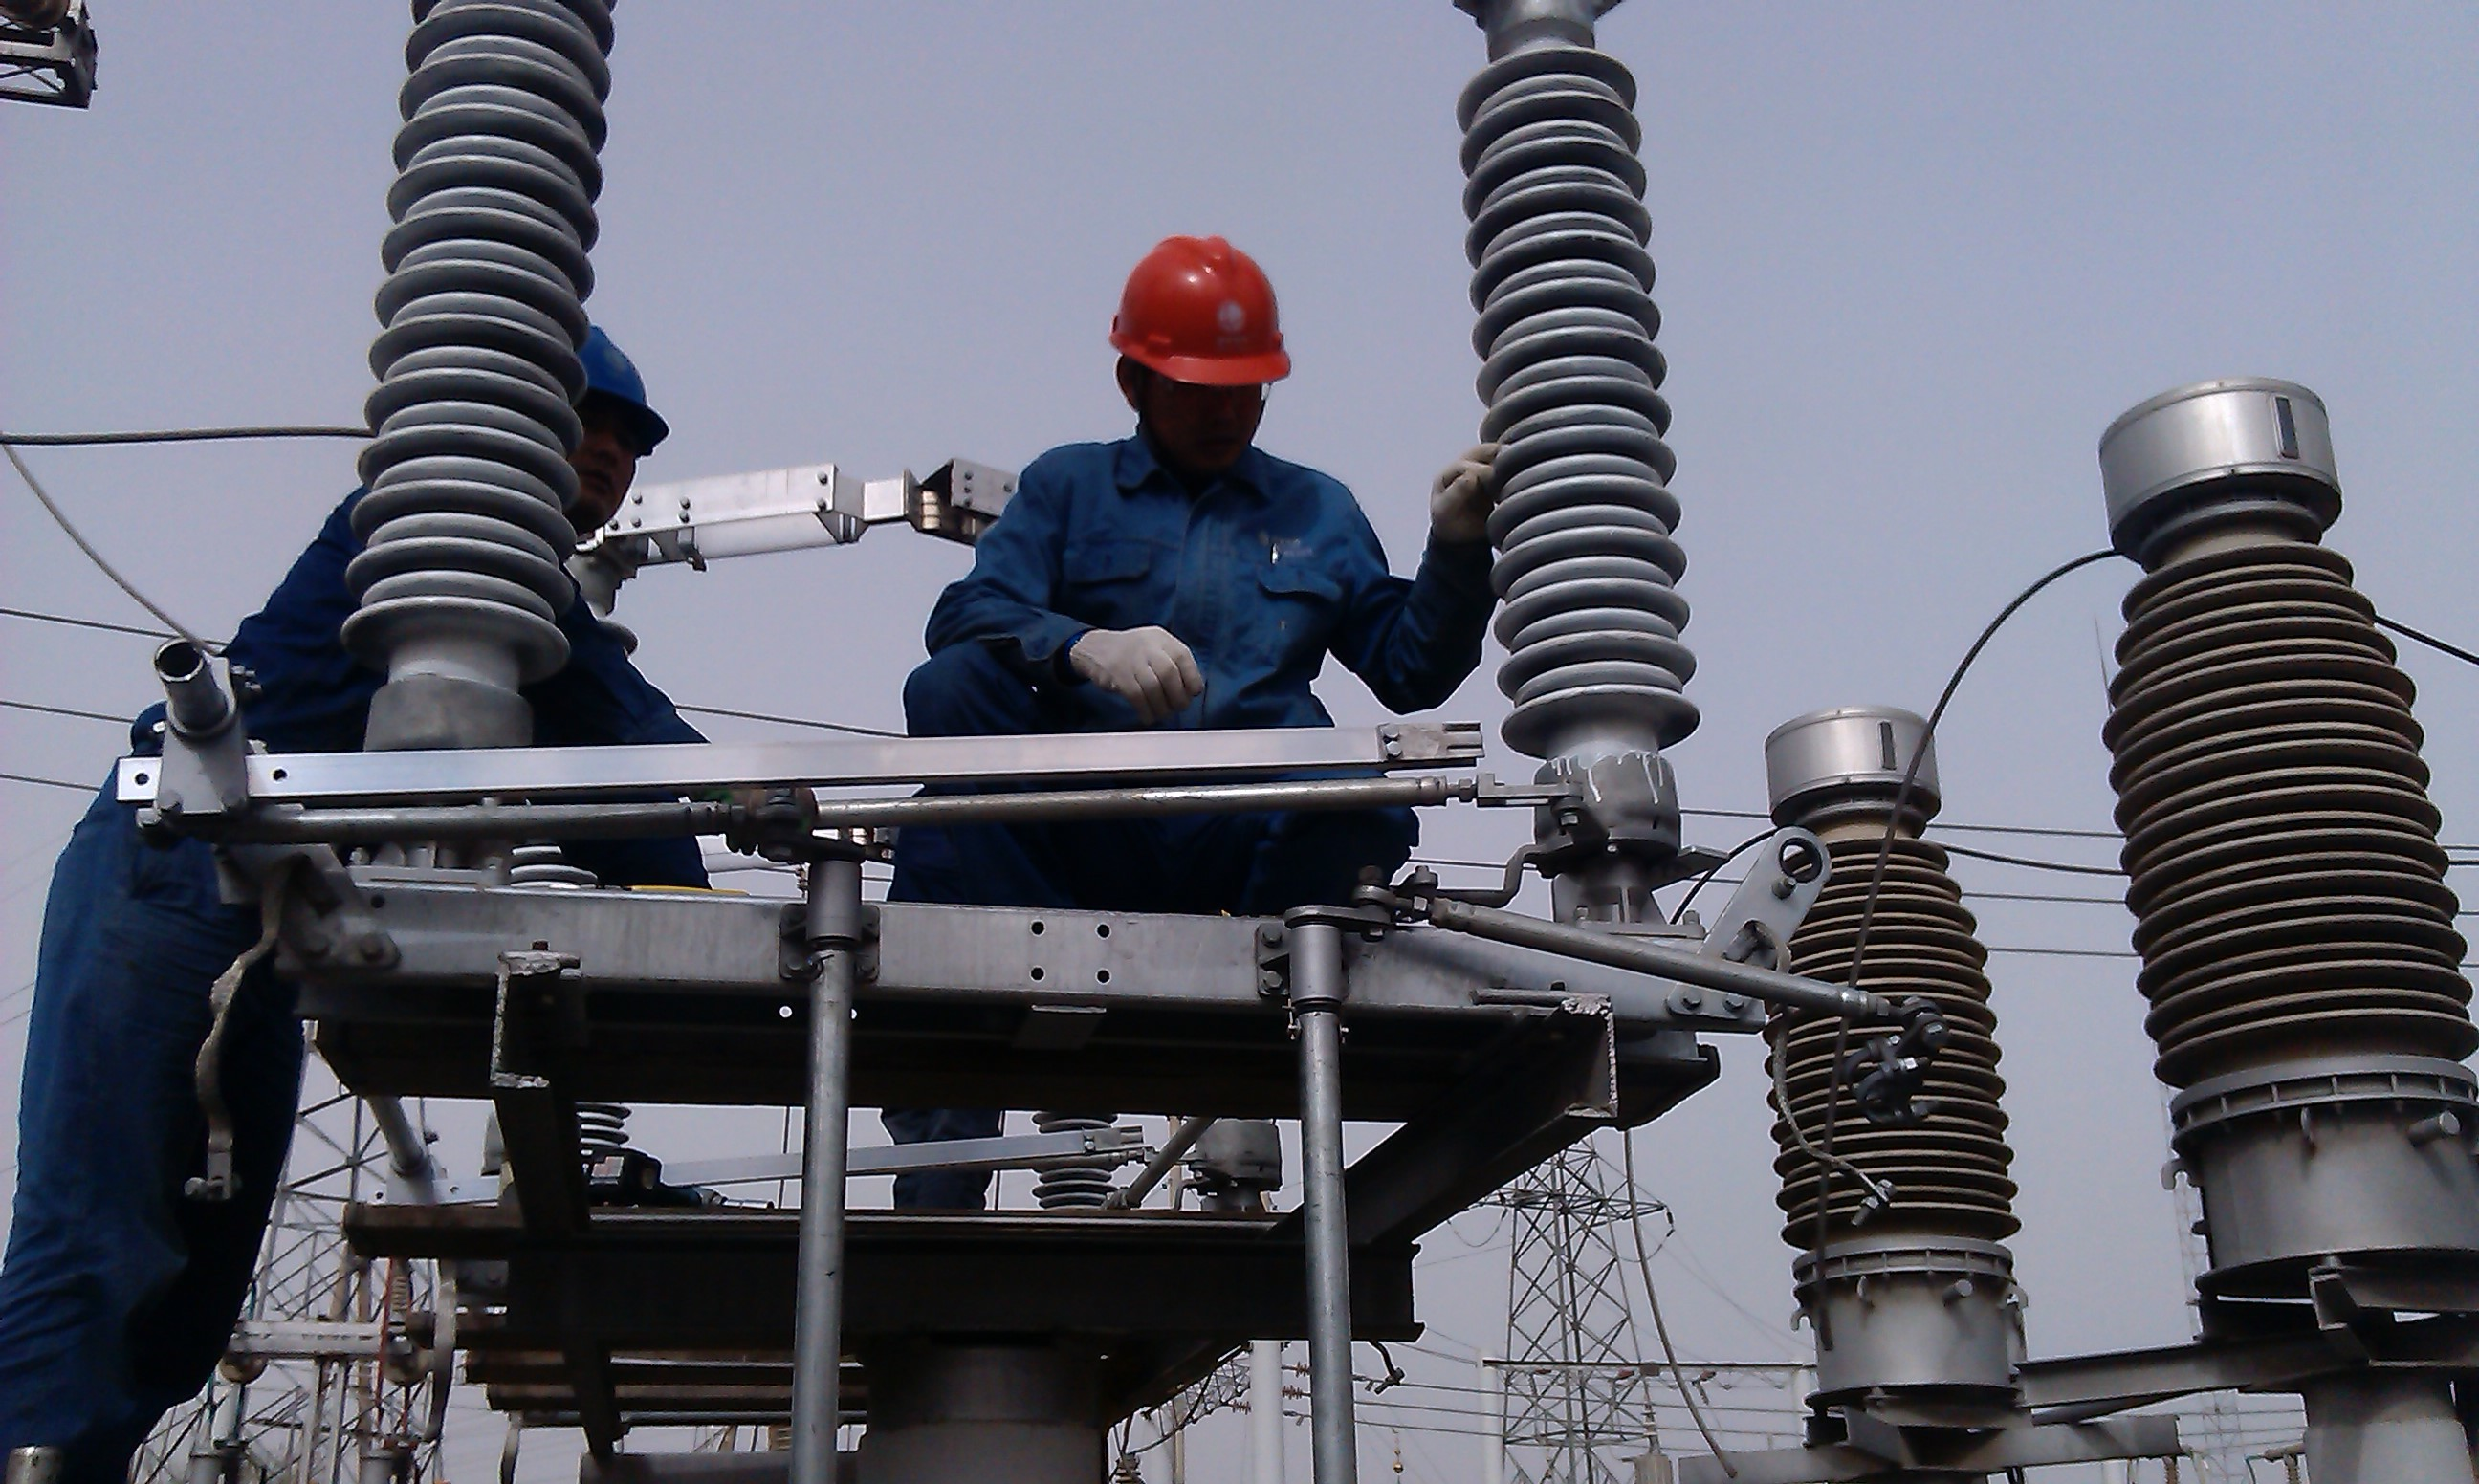hat: (1097, 216, 1292, 484)
